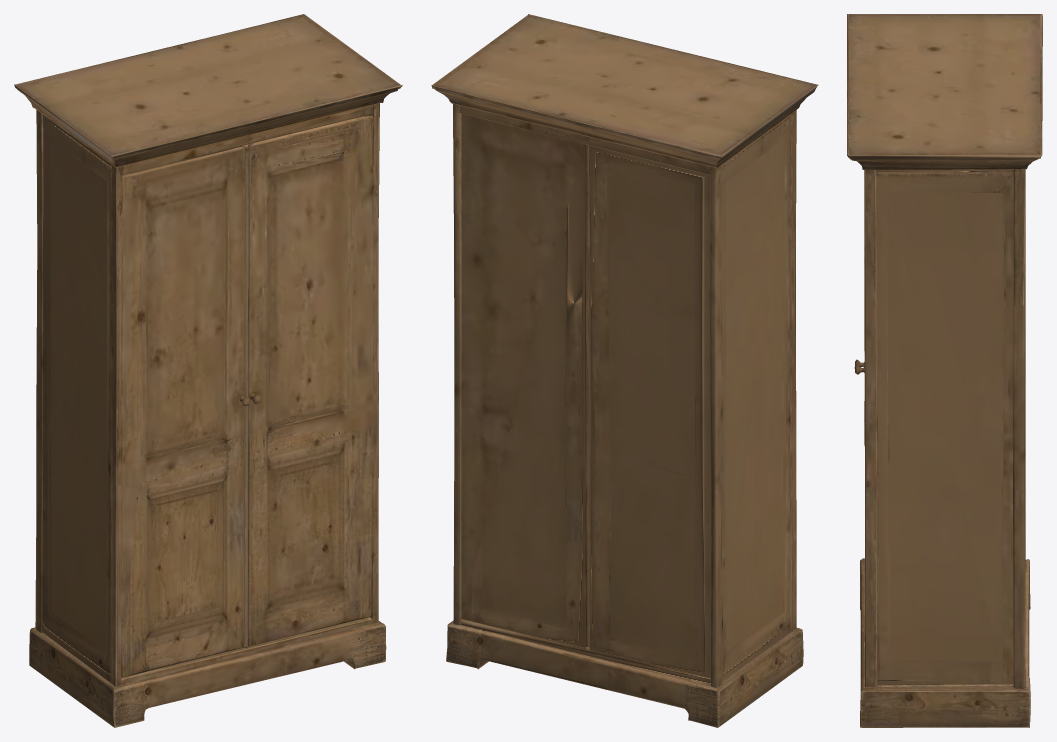
Rendered from wardrobe_pine.glb.
3 views of the same model, side by side, from view 1: azimuth 30°, elevation 25°; view 2: azimuth 150°, elevation 25°; view 3: azimuth 270°, elevation 25° (orthographic).
Bounding box in the file's own units: 1 × 1.9 × 0.5845.
Materials: 1 (1 with a texture image).
